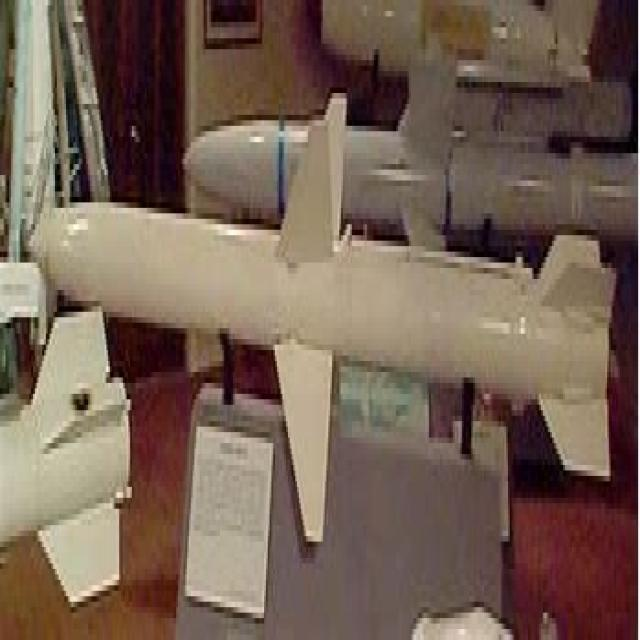missile: (39, 88, 613, 542)
